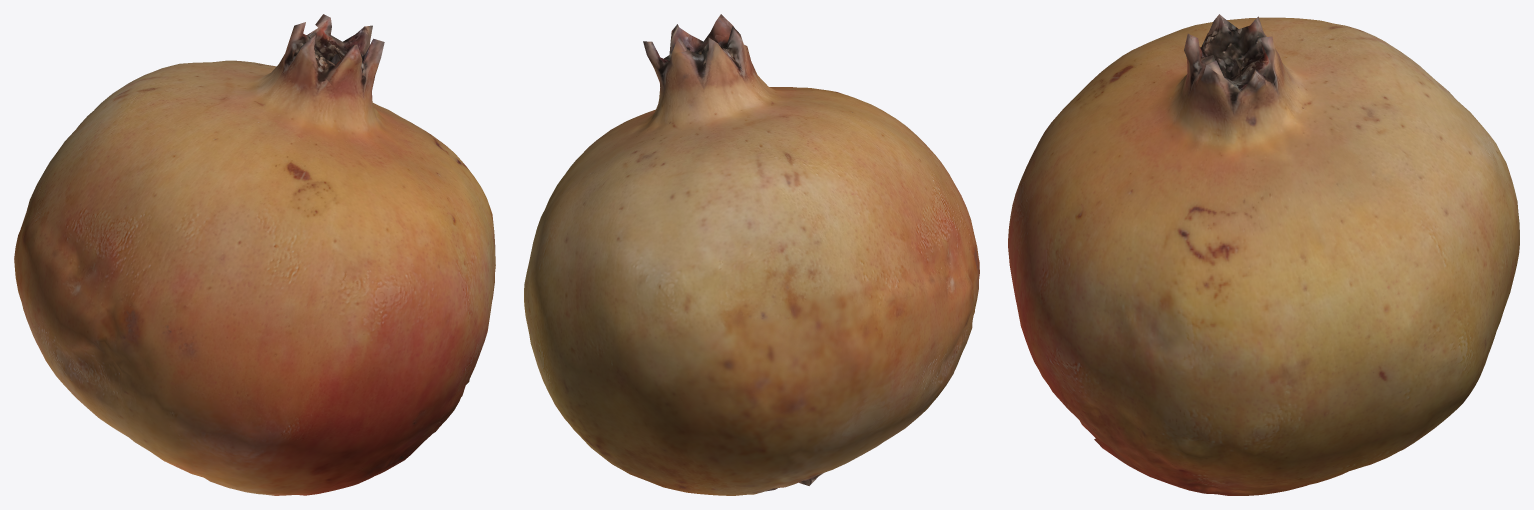
Rendered from e6ebaa893_pomegranate.glb.
The picture shows the model from 3 angles, left to right: view 1: azimuth 30°, elevation 25°; view 2: azimuth 150°, elevation 25°; view 3: azimuth 270°, elevation 25°; orthographic projection. The views are drawn at different scales.
Visible parts, largest first — view 1: Object_3; view 2: Object_3; view 3: Object_3.
Boxes of the visible parts, box(x1,y1,x2,y2) form: Object_3: box(14, 14, 495, 495); Object_3: box(524, 14, 979, 495); Object_3: box(1008, 14, 1519, 495).
Bounding box in the file's own units: 0.1213 × 0.125 × 0.1237.
Materials: 1 (1 with a texture image).
